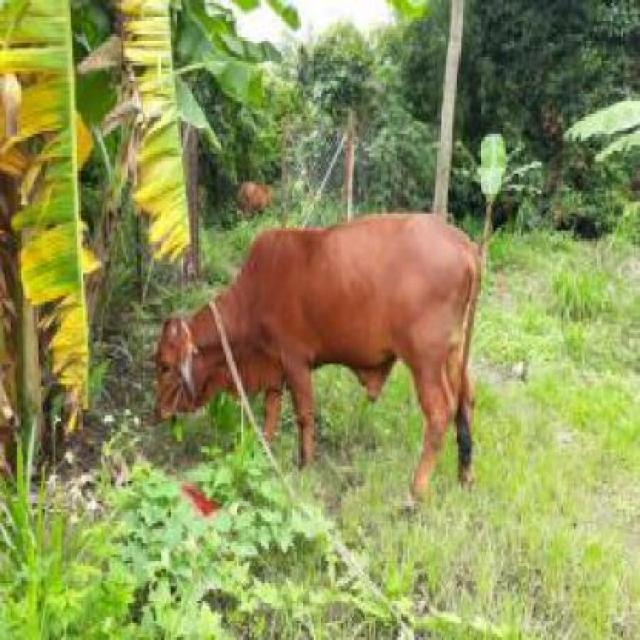Cow: (156, 208, 484, 506)
